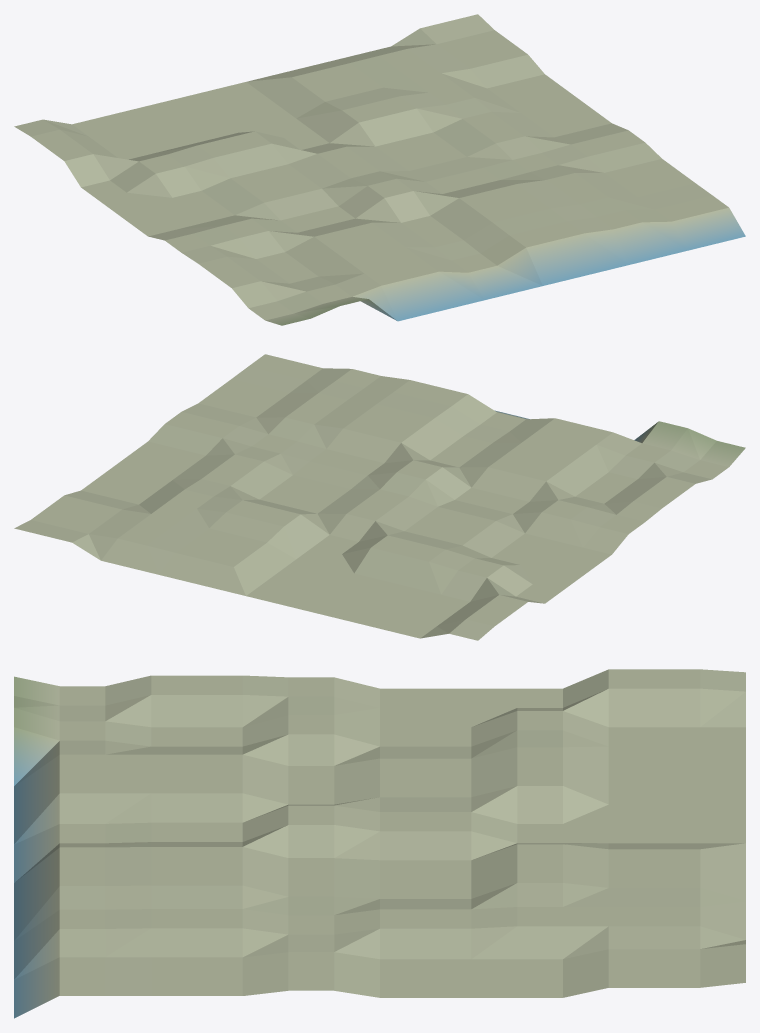
The picture shows the model from 3 angles, top to bottom: view 1: azimuth 30°, elevation 25°; view 2: azimuth 150°, elevation 25°; view 3: azimuth 270°, elevation 25°; orthographic projection. The views are drawn at different scales.
Size of the model in its own units: 32 by 1.94 by 32.
